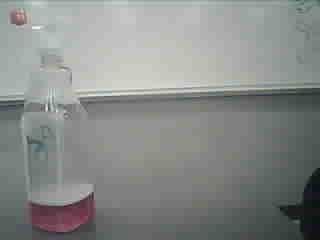hazard: (7, 4, 108, 233)
